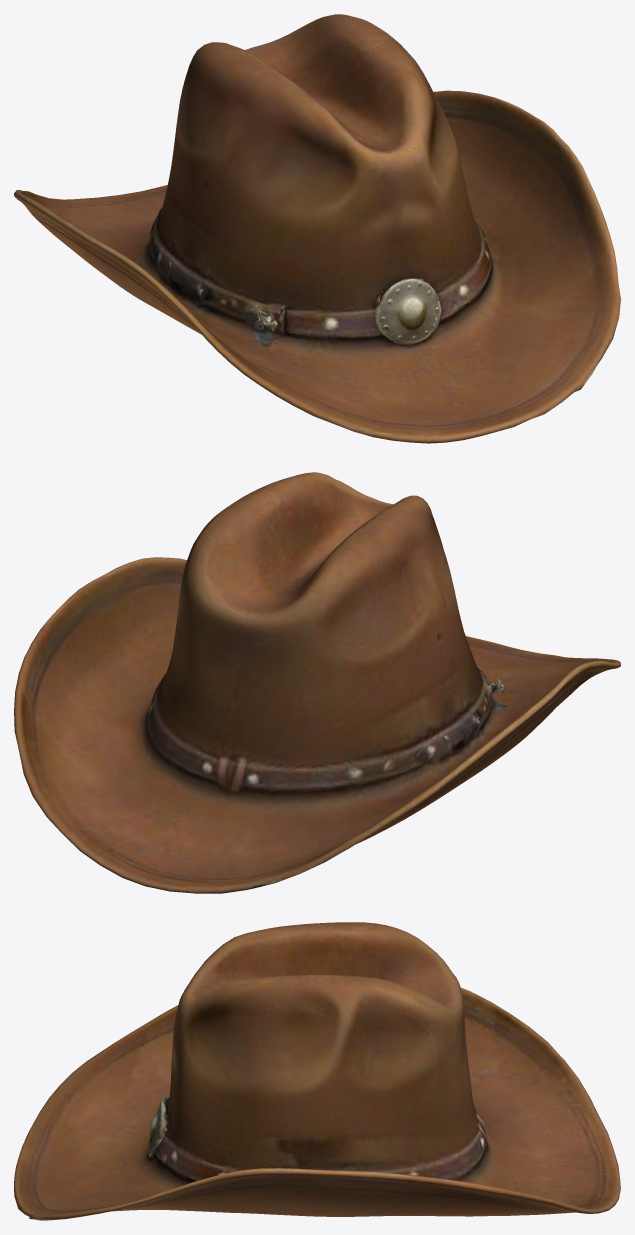
3 renders of one model, top to bottom at view 1: azimuth 30°, elevation 25°; view 2: azimuth 150°, elevation 25°; view 3: azimuth 270°, elevation 25°, orthographic. The views are drawn at different scales.
Bounding box in the file's own units: 1.61 × 0.8533 × 1.99.
Materials: 1 (1 with a texture image).
